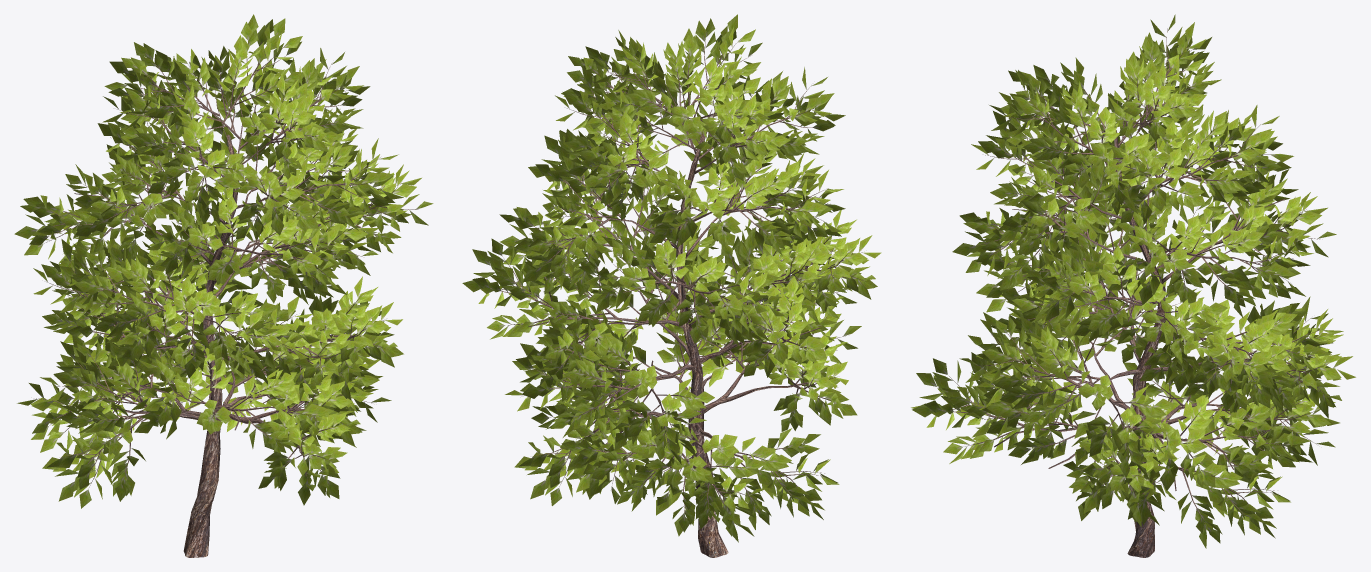
The picture shows the model from 3 angles, left to right: view 1: azimuth 30°, elevation 25°; view 2: azimuth 150°, elevation 25°; view 3: azimuth 270°, elevation 25°; orthographic projection. The views are drawn at different scales.
Visible parts, largest first — view 1: Tree_0; view 2: Tree_0; view 3: Tree_0.
Boxes of the visible parts, x1=… form: Tree_0: x1=14, y1=14, x2=433, y2=557; Tree_0: x1=462, y1=14, x2=881, y2=557; Tree_0: x1=911, y1=14, x2=1355, y2=557.
Bounding box in the file's own units: 69.05 × 92.69 × 71.95.
